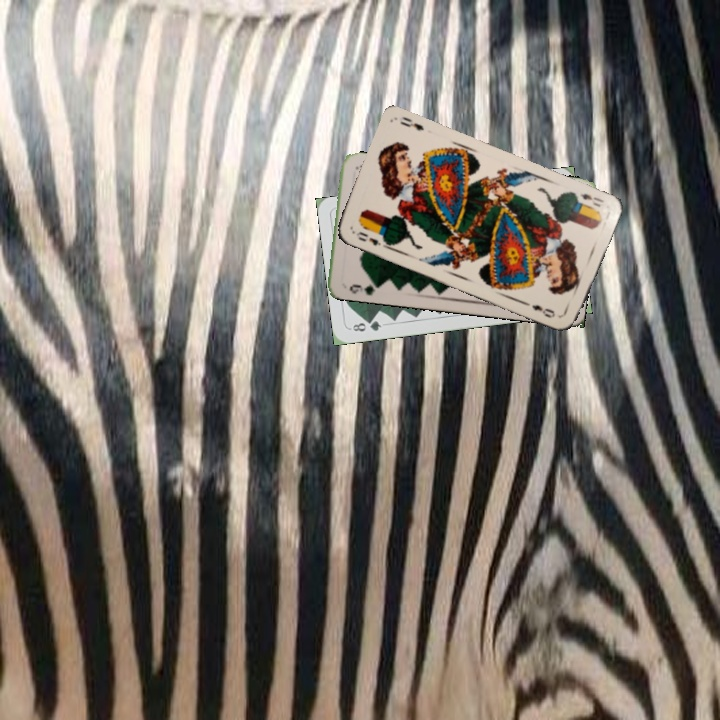EO: (352, 227, 389, 248), (576, 189, 606, 210)
G8: (349, 316, 384, 334)
G9: (345, 278, 382, 298)
